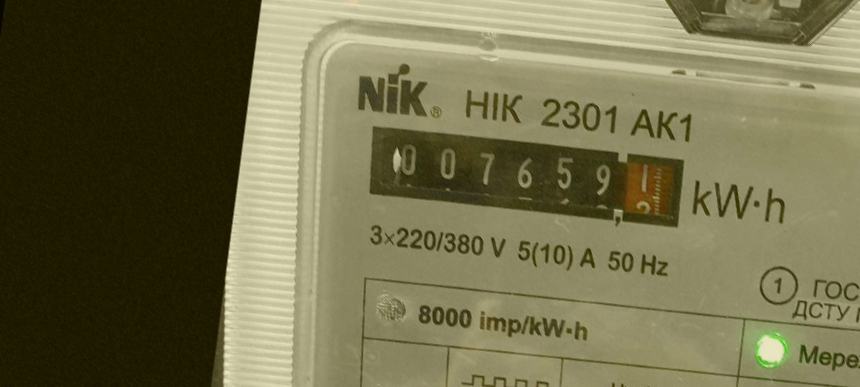0: (435, 144, 463, 183), (396, 139, 422, 180)
1: (635, 159, 656, 197)
5: (553, 153, 578, 192)
6: (513, 153, 539, 191)
7: (473, 148, 499, 188)
9: (591, 160, 616, 199)
screen: (355, 112, 698, 244)
